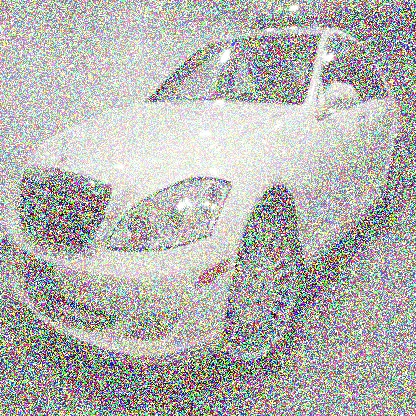Vehicle: (5, 31, 404, 374)
